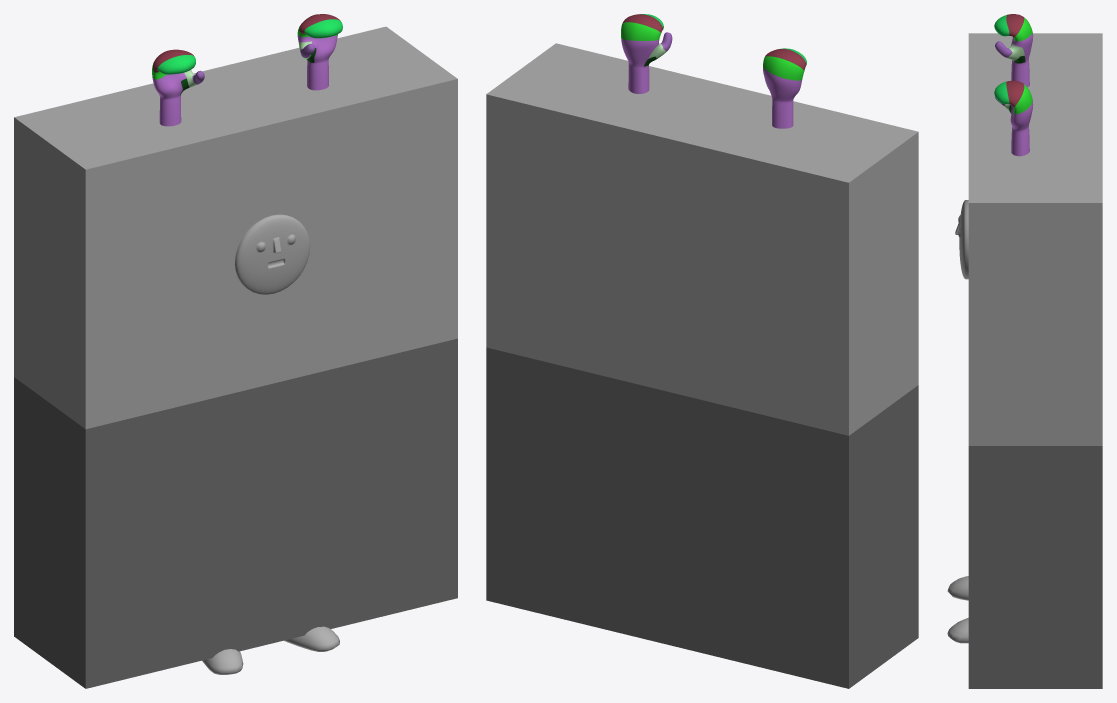
File: figure_cube_hang.fbx
3 renders of one model, left to right at view 1: azimuth 30°, elevation 25°; view 2: azimuth 150°, elevation 25°; view 3: azimuth 270°, elevation 25°, orthographic. The views are drawn at different scales.
Parts seen in each view (by area): view 1: mesh_top, mesh_bottom, face_cube, hand_L_mesh, hand_R_mesh, pCube1 (×2); view 2: mesh_top, mesh_bottom, hand_R_mesh, hand_L_mesh; view 3: mesh_top, mesh_bottom, hand_L_mesh, hand_R_mesh, pCube1 (×2), face_cube.
Boxes of the visible parts, bbox=[...] form: mesh_top: bbox=[14, 26, 457, 429]; mesh_bottom: bbox=[14, 338, 457, 688]; face_cube: bbox=[235, 214, 310, 294]; hand_L_mesh: bbox=[152, 49, 204, 126]; hand_R_mesh: bbox=[297, 14, 342, 90]; pCube1 (×2): bbox=[202, 626, 339, 674]; mesh_top: bbox=[486, 43, 918, 435]; mesh_bottom: bbox=[486, 347, 918, 688]; hand_R_mesh: bbox=[621, 14, 672, 93]; hand_L_mesh: bbox=[763, 48, 806, 128]; mesh_top: bbox=[968, 33, 1102, 445]; mesh_bottom: bbox=[968, 446, 1102, 688]; hand_L_mesh: bbox=[994, 14, 1033, 87]; hand_R_mesh: bbox=[994, 80, 1033, 156]; pCube1 (×2): bbox=[947, 576, 968, 643]; face_cube: bbox=[955, 200, 968, 279].
Bounding box in the file's own units: 150 × 232 × 57.92.
